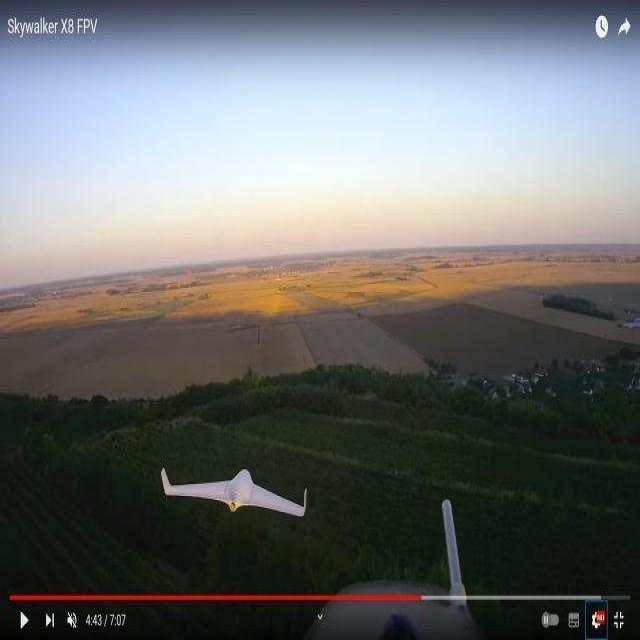iha: (156, 465, 316, 495)
